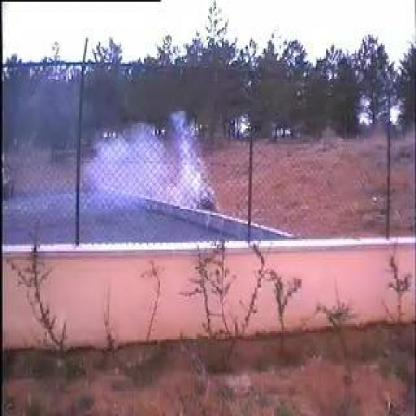-: (79, 109, 225, 217)
